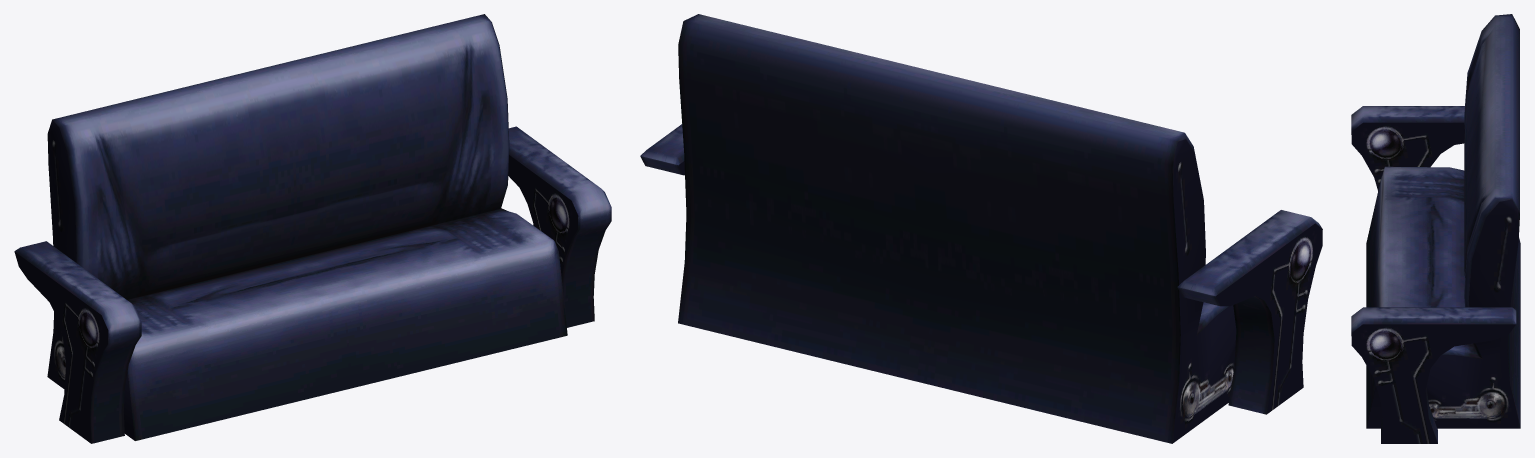
The model's file is frn_all_couch_lg_s2_l0.fbx.
3 views of the same model, side by side, from view 1: azimuth 30°, elevation 25°; view 2: azimuth 150°, elevation 25°; view 3: azimuth 270°, elevation 25° (orthographic). The views are drawn at different scales.
Parts seen in each view (by area): view 1: mesh_node; view 2: mesh_node; view 3: mesh_node.
Boxes of the visible parts, left/top/right/bottom form: mesh_node: left=14, top=14, right=611, bottom=443; mesh_node: left=640, top=14, right=1322, bottom=443; mesh_node: left=1351, top=14, right=1520, bottom=443.
Size of the model in its own units: 2.4 by 1.19 by 0.7955.
